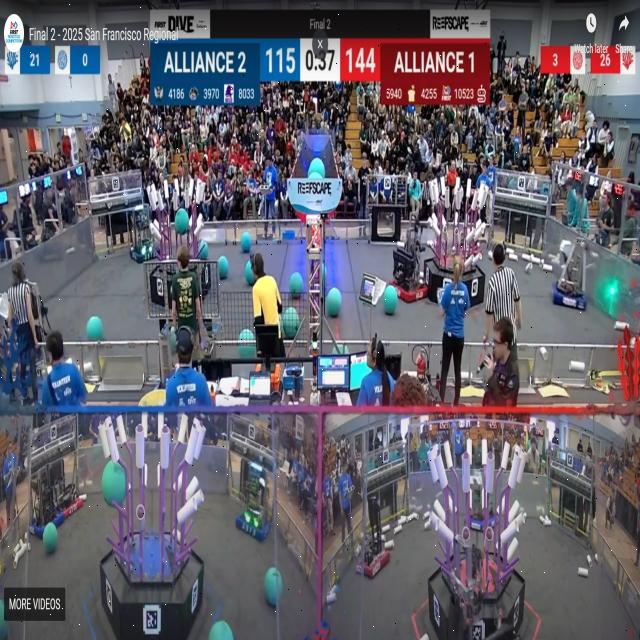Robot-YfA7: (387, 213, 429, 300), (29, 465, 65, 540), (236, 464, 271, 541), (554, 234, 588, 308), (356, 499, 382, 582), (130, 203, 161, 263), (52, 476, 84, 520)
